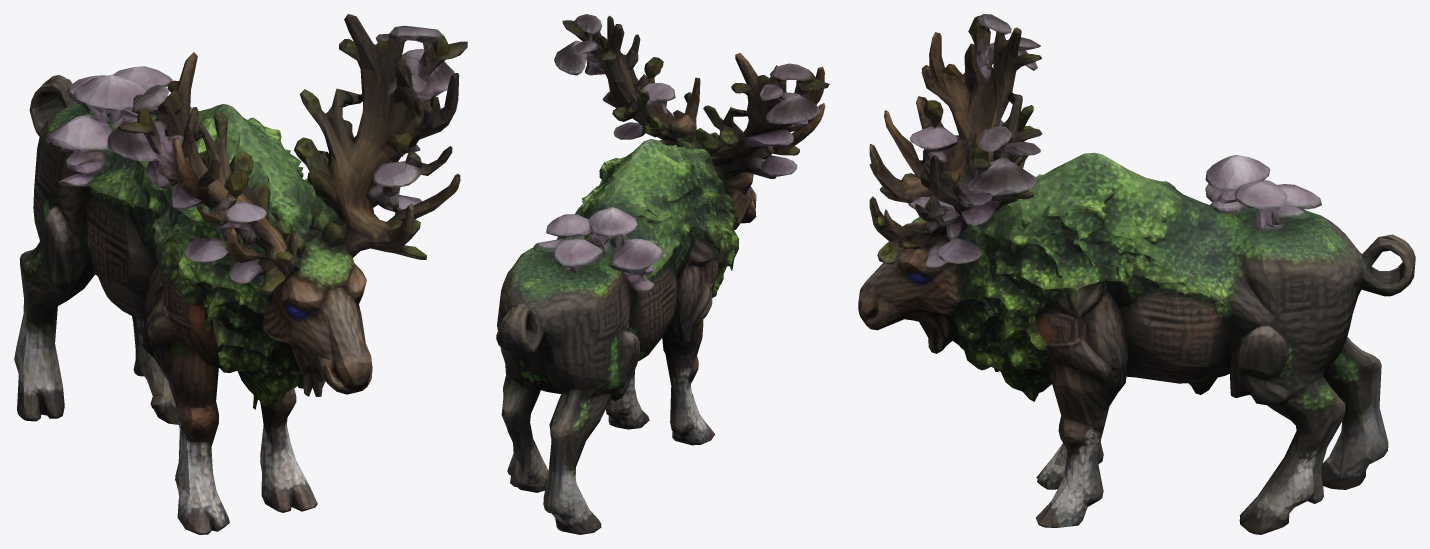
The model's file is bramblehoof__mossmantle.glb.
The picture shows the model from 3 angles, left to right: view 1: azimuth 30°, elevation 25°; view 2: azimuth 150°, elevation 25°; view 3: azimuth 270°, elevation 25°; orthographic projection. The views are drawn at different scales.
Visible parts, largest first — view 1: world; view 2: world; view 3: world.
Part boxes in pixels (x1=…): world: x1=14, y1=14, x2=467, y2=534; world: x1=496, y1=14, x2=829, y2=534; world: x1=858, y1=14, x2=1415, y2=534.
Bounding box in the file's own units: 0.6413 × 0.8736 × 0.9988.
Materials: 1 (1 with a texture image).
